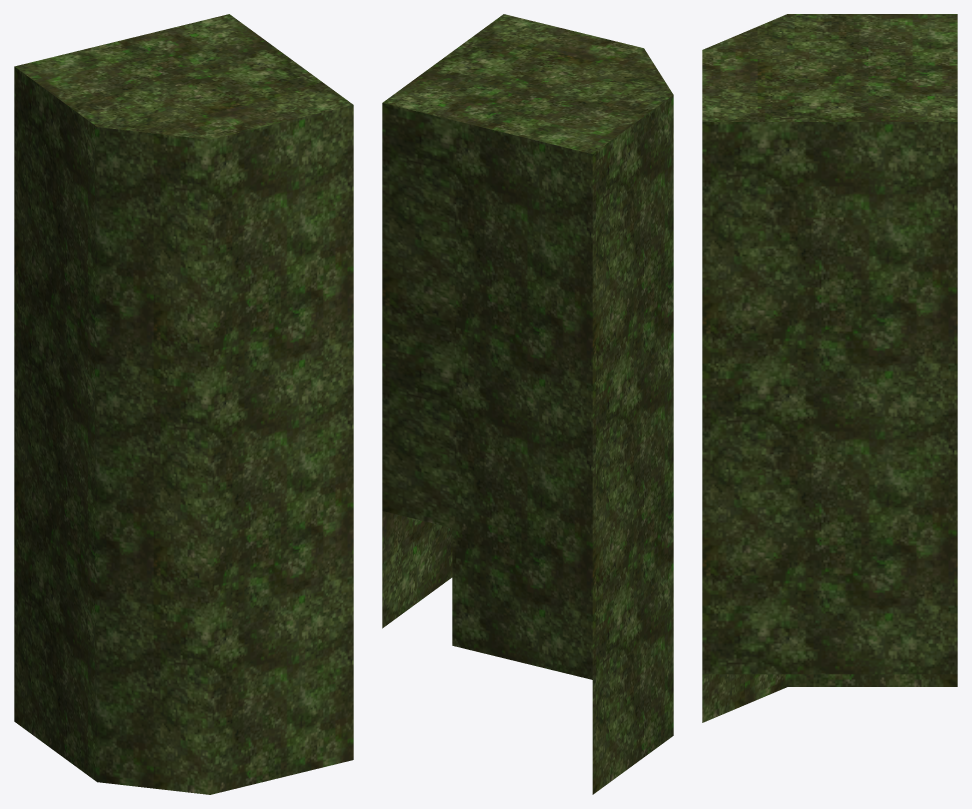
Rendered from OVERHILL_A_01_OBJECT93.fbx.
3 views of the same model, side by side, from view 1: azimuth 30°, elevation 25°; view 2: azimuth 150°, elevation 25°; view 3: azimuth 270°, elevation 25° (orthographic). The views are drawn at different scales.
Visible parts, largest first — view 1: OVERHILL_A_01_OBJECT93; view 2: OVERHILL_A_01_OBJECT93; view 3: OVERHILL_A_01_OBJECT93.
Part boxes in pixels (x1,y1,x2,y2): OVERHILL_A_01_OBJECT93: (14, 14, 353, 794); OVERHILL_A_01_OBJECT93: (382, 14, 673, 794); OVERHILL_A_01_OBJECT93: (702, 14, 957, 722).
Bounding box in the file's own units: 30000 × 87311 × 30000.
1 material, 1 textured.
